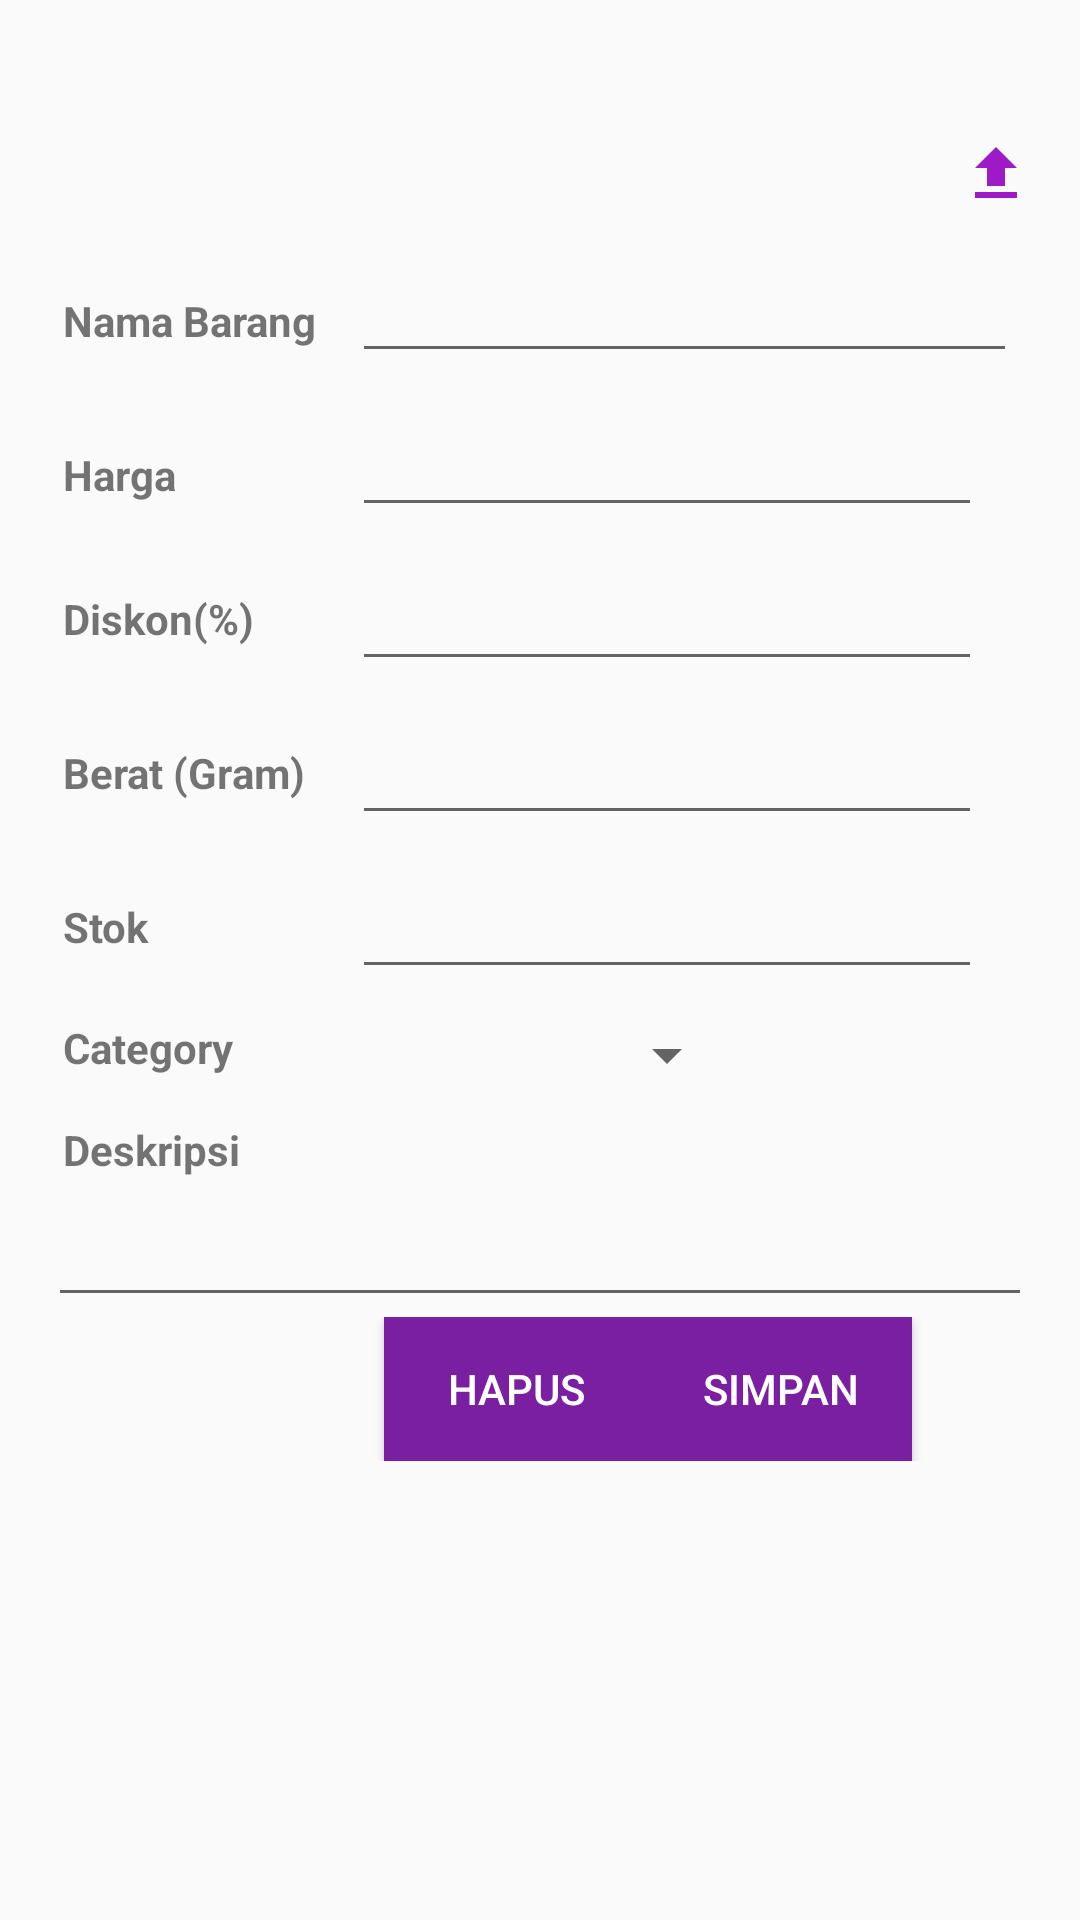

Where to tap for icons on this 1080px×1920px app screen, as (x,y):
upload: (996,172)
